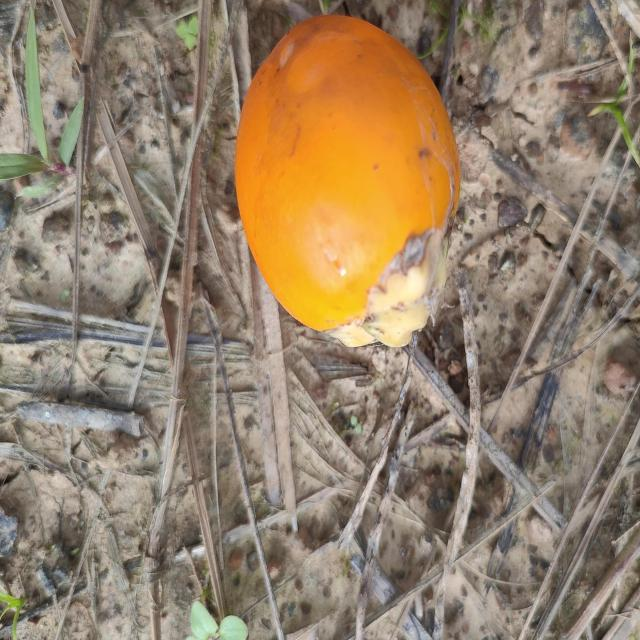good: (233, 15, 462, 347)
